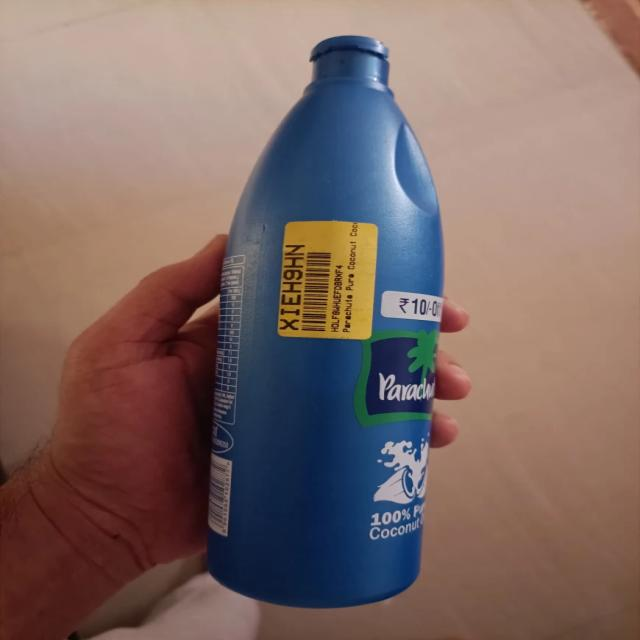parachute_oil: (215, 27, 449, 616)
